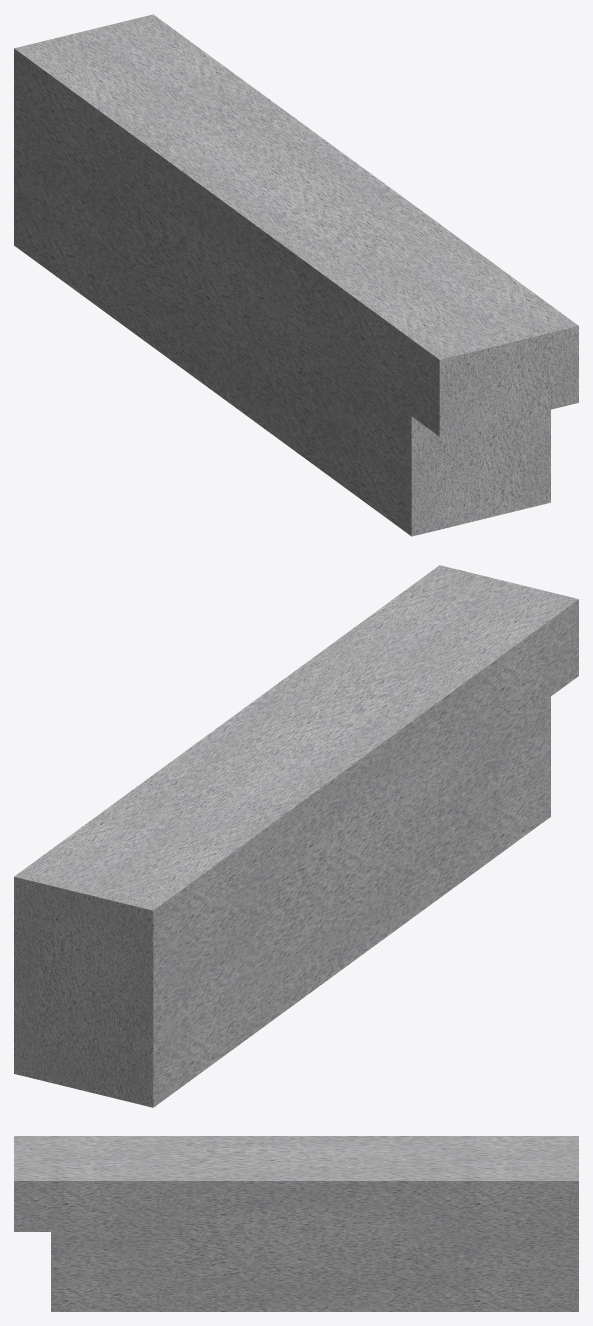
The model's file is SM_W_Stone_6.fbx.
The picture shows the model from 3 angles, top to bottom: view 1: azimuth 30°, elevation 25°; view 2: azimuth 150°, elevation 25°; view 3: azimuth 270°, elevation 25°; orthographic projection. The views are drawn at different scales.
Parts seen in each view (by area): view 1: SM_W_Stone_6; view 2: SM_W_Stone_6; view 3: SM_W_Stone_6.
Boxes of the visible parts, x1,y1,x2,y2 form: SM_W_Stone_6: [14, 14, 578, 536]; SM_W_Stone_6: [14, 565, 578, 1107]; SM_W_Stone_6: [14, 1136, 578, 1311].
Size of the model in its own units: 30.82 by 163 by 41.67.
Materials: 1 (1 with a texture image).
